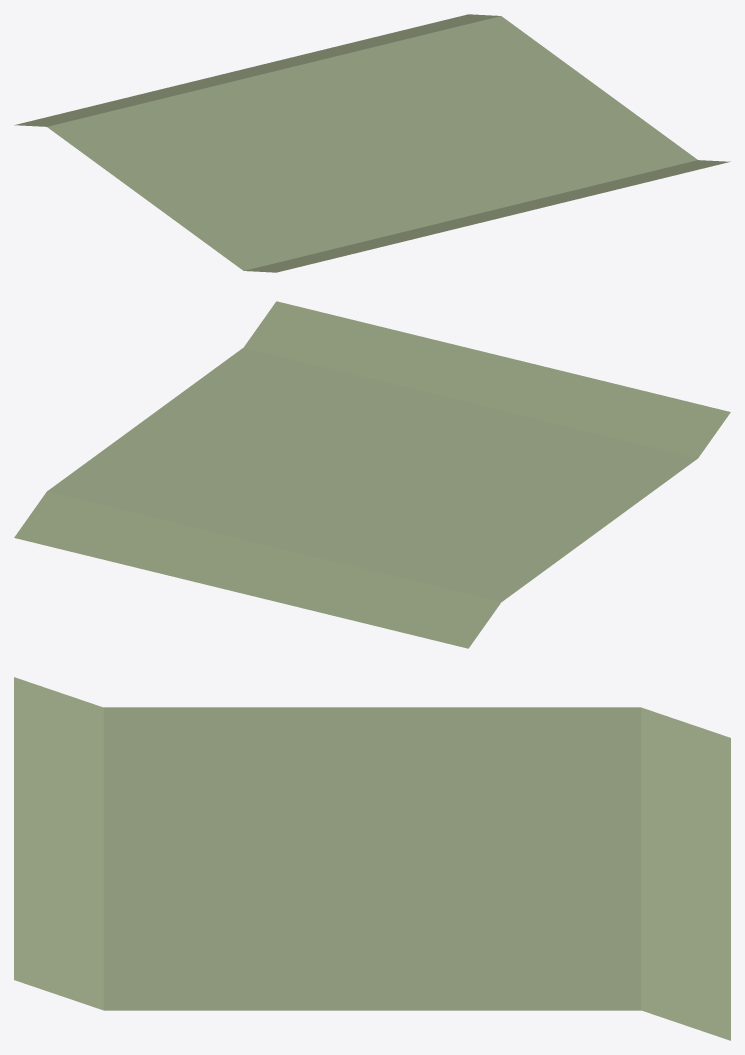
Rendered from town-0-1.glb.
3 views of the same model, one above another, from view 1: azimuth 30°, elevation 25°; view 2: azimuth 150°, elevation 25°; view 3: azimuth 270°, elevation 25° (orthographic). The views are drawn at different scales.
Parts seen in each view (by area): view 1: town-0-1; view 2: town-0-1; view 3: town-0-1.
Boxes of the visible parts, box(x1,y1,x2,y2) form: town-0-1: box(14, 14, 730, 272); town-0-1: box(14, 301, 730, 648); town-0-1: box(14, 677, 730, 1040).
Bounding box in the file's own units: 128 × 12 × 128.
